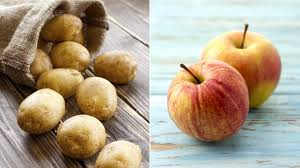apple: (199, 28, 284, 111), (169, 62, 252, 139)
damaged_apple: (17, 86, 65, 134), (60, 114, 105, 157), (76, 78, 119, 119), (93, 49, 137, 83), (36, 68, 86, 93), (99, 139, 140, 168), (53, 40, 89, 69)
